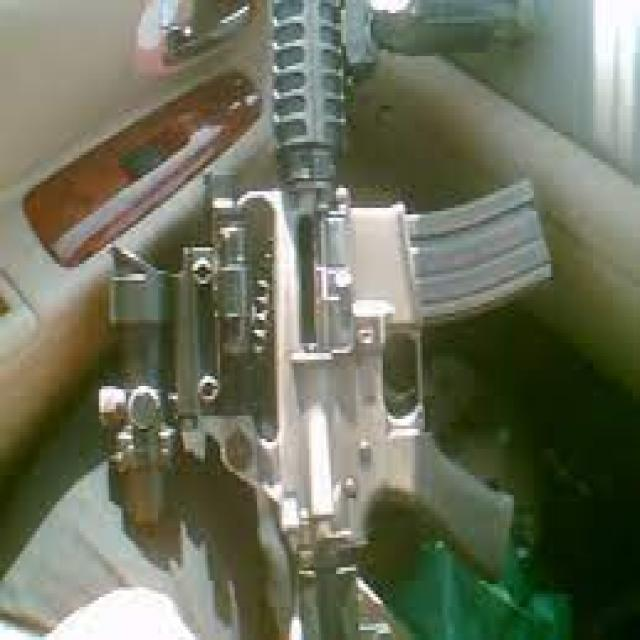m16: (172, 24, 542, 604)
